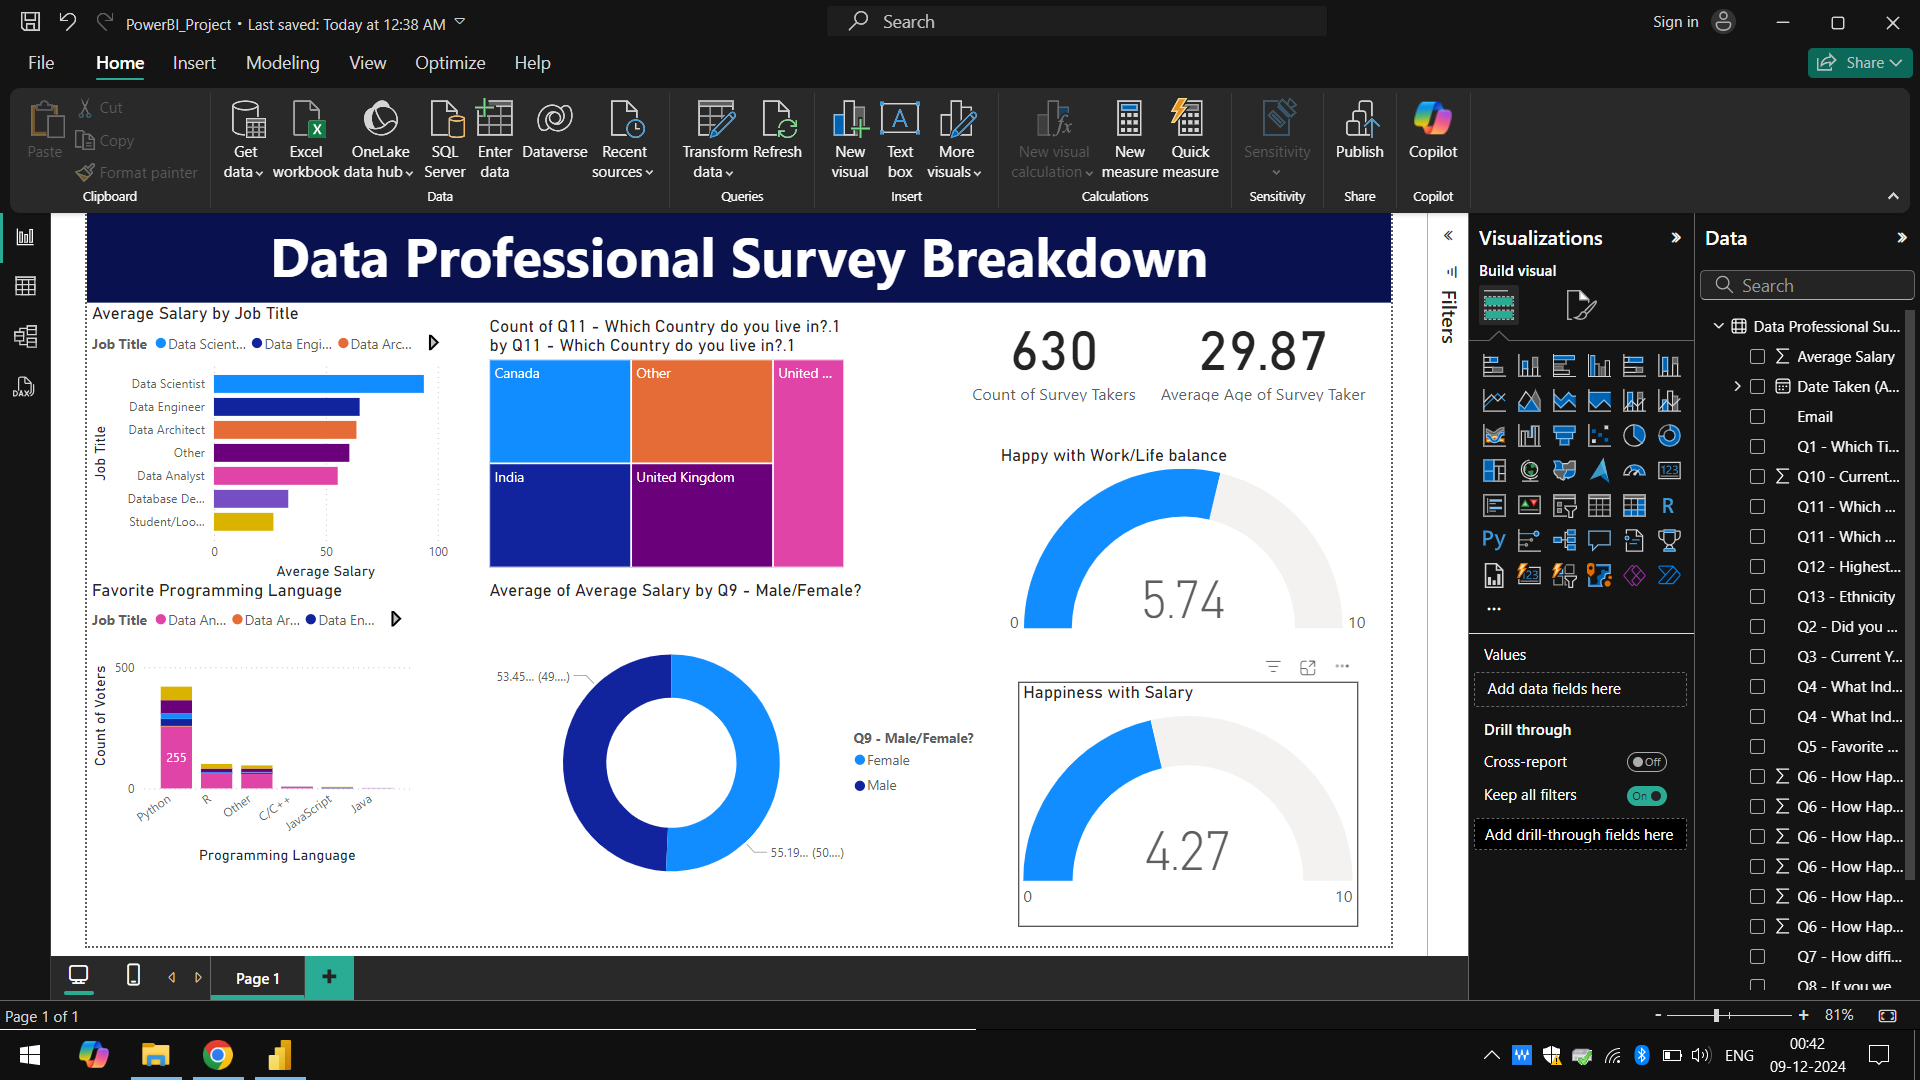

What the dashboard file says about the page in this screenshot:
{"tool":"powerbi","page":{"name":"Page 1","canvas":[1280,720],"ordinal":0},"visuals":[{"type":"textbox","box":[0,0,1280.3,87.8],"z":0},{"type":"card","fields":{"Values":["Count(Data Professional Survey.Unique ID)"]},"box":[860.4,87.8,178.4,101.5],"z":1000},{"type":"card","fields":{"Values":["Avg(Data Professional Survey.Q10 - Current Age)"]},"box":[1038.8,87.8,230.5,101.5],"z":2000},{"type":"barChart","title":"Average Salary by Job Title","fields":{"Category":["Data Professional Survey.Q1 - Which Title Best Fits your Current Role?.1"],"Y":["Avg(Data Professional Survey.Average Salary)"],"Series":["Data Professional Survey.Q1 - Which Title Best Fits your Current Role?.1"]},"box":[0,87.8,359.5,275.8],"z":3000},{"type":"columnChart","title":"Favorite Programming Language","fields":{"Category":["Data Professional Survey.Q5 - Favorite Programming Language.1"],"Y":["CountNonNull(Data Professional Survey.Unique ID)"],"Series":["Data Professional Survey.Q1 - Which Title Best Fits your Current Role?.1"]},"box":[0,359.5,322.5,284],"z":4000},{"type":"treemap","fields":{"Group":["Data Professional Survey.Q11 - Which Country do you live in?.1"],"Values":["Count(Data Professional Survey.Q11 - Which Country do you live in?.1)"]},"box":[389.7,100.2,358.1,252.5],"z":5000},{"type":"gauge","title":"Happy with Work/Life balance","fields":{"Y":["Avg(Data Professional Survey.Q6 - How Happy are you in your Current Position with the following? (Work/Life Balance))"],"MinValue":["Min(Data Professional Survey.Q6 - How Happy are you in your Current Position with the following? (Work/Life Balance))"],"MaxValue":["Max(Data Professional Survey.Q6 - How Happy are you in your Current Position with the following? (Work/Life Balance))1"]},"box":[891.9,226.4,377.4,190.7],"z":6000},{"type":"gauge","title":"Happiness with Salary","fields":{"Y":["Avg(Data Professional Survey.Q6 - How Happy are you in your Current Position with the following? (Salary))"],"MinValue":["Min(Data Professional Survey.Q6 - How Happy are you in your Current Position with the following? (Salary))"],"MaxValue":["Max(Data Professional Survey.Q6 - How Happy are you in your Current Position with the following? (Salary))"]},"box":[913.9,459.7,333.4,241.5],"z":7000},{"type":"donutChart","fields":{"Category":["Data Professional Survey.Q9 - Male/Female?"],"Y":["Avg(Data Professional Survey.Average Salary)"]},"box":[389.7,359.5,502.2,341.7],"z":8000}]}

Visuals, with their boxes on the page's 1280x720 design canvas (x1, y1, x2, y2). These are canvas units, not pixel positions in the 1920x1080 screenshot, which may show the page scaled, cropped or inside an application window:
textbox: 0/0/1280/88
card - Count(Data Professional Survey.Unique ID): 860/88/1039/189
card - Avg(Data Professional Survey.Q10 - Current Age): 1039/88/1269/189
"Average Salary by Job Title" barChart: 0/88/360/364
"Favorite Programming Language" columnChart: 0/360/322/644
treemap - Data Professional Survey.Q11 - Which Country do you live in?.1 x Count(Data Professional Survey.Q11 - Which Country do you live in?.1): 390/100/748/353
"Happy with Work/Life balance" gauge: 892/226/1269/417
"Happiness with Salary" gauge: 914/460/1247/701
donutChart - Data Professional Survey.Q9 - Male/Female? x Avg(Data Professional Survey.Average Salary): 390/360/892/701
